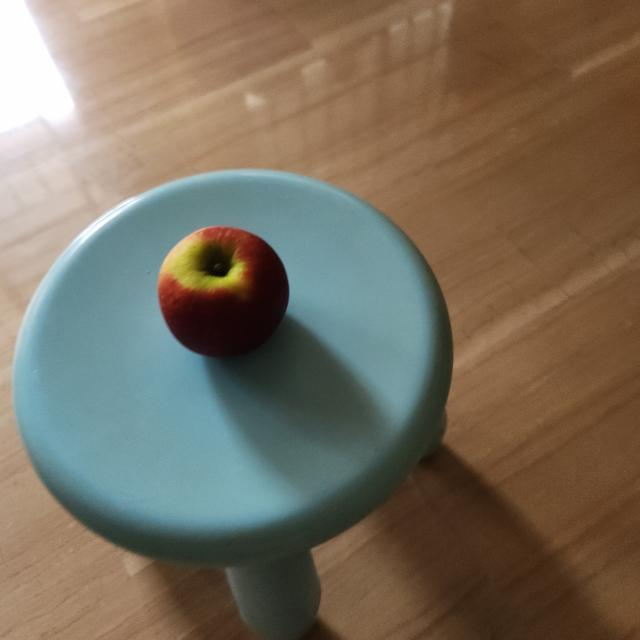apple: (154, 220, 291, 368)
